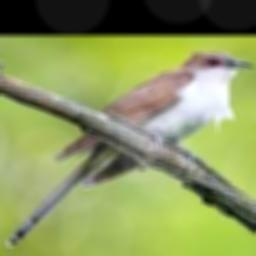Cuckoo: (5, 50, 253, 247)
